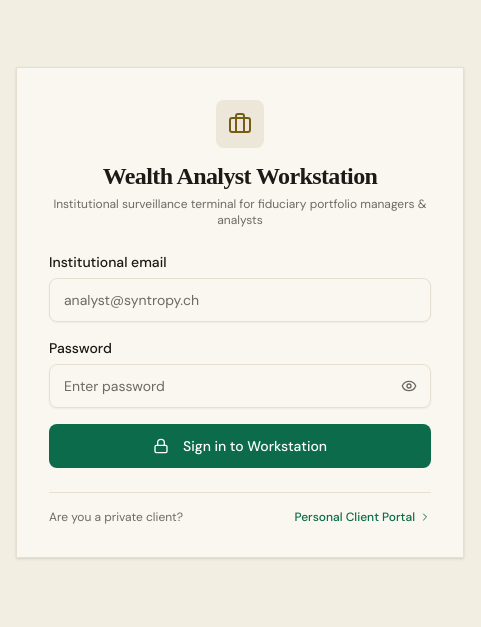
Test: role login mismatch keeps the existing session › advisor portal shows the role error without logging out a signed-in USER
The width and height of the screenshot is (481, 627).
Type "user@example.com" into the field labelled "Institutional email" at (240, 300), box [49,278,431,322]
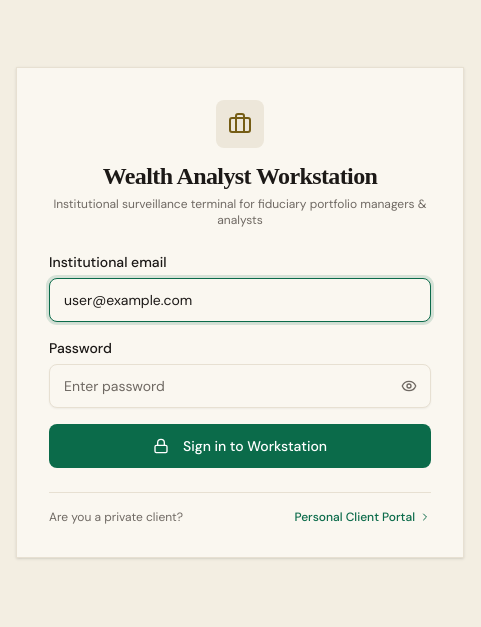
Type "correct-horse-1" into the password field labelled "Password" at (240, 386), box [49,364,431,408]
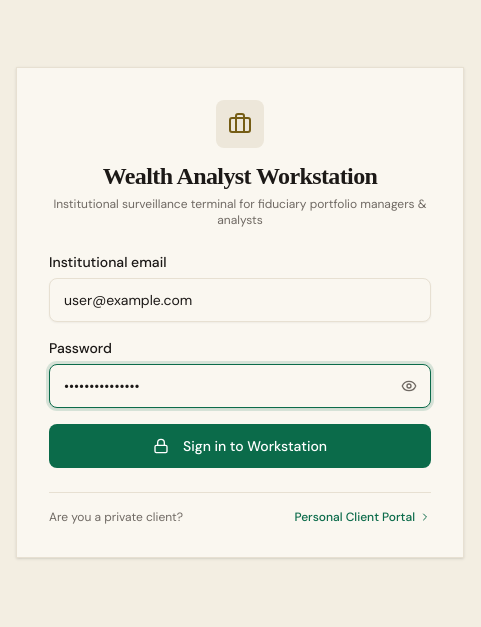
Click the button "Sign in to Workstation" at (240, 446), box [49,424,431,468]
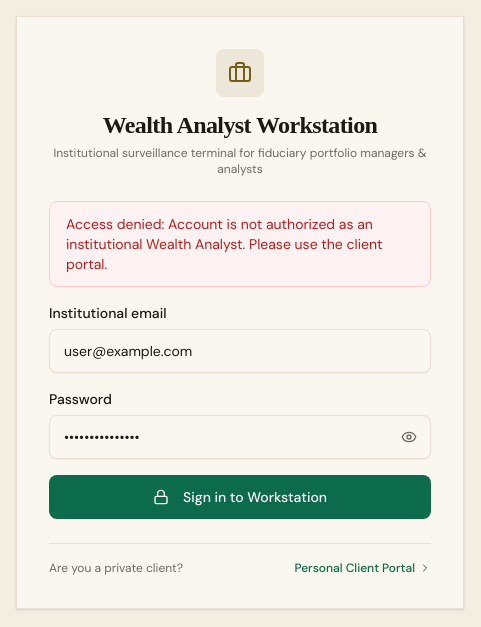
Expected: the text "not authorized as an institutional Wealth Analyst" is shown, [66,214,382,272]
